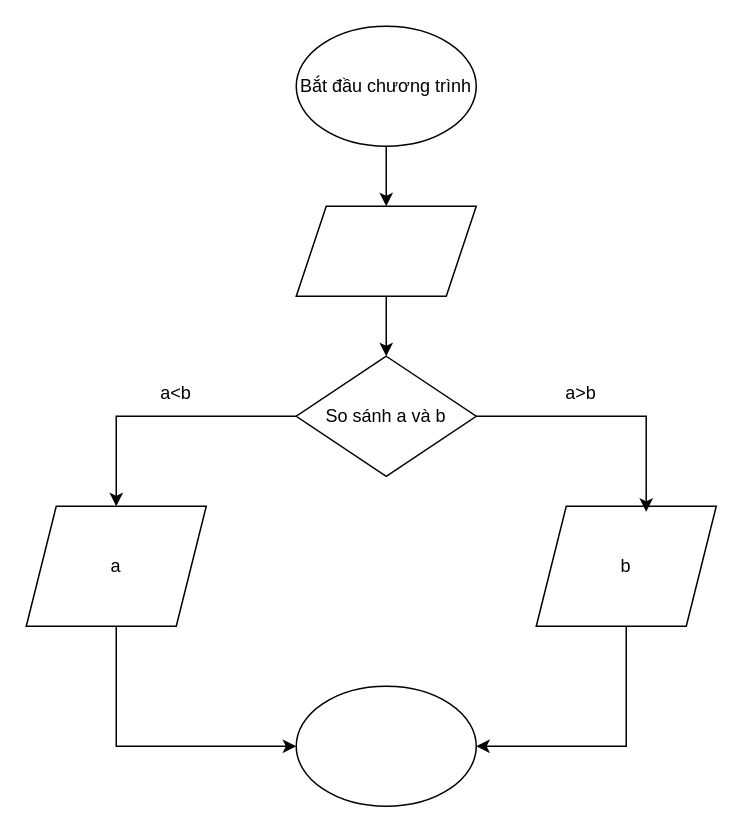
Image size: 743x833. Some labels were removed from this diagram. The shapes that lost their labels are listed below. From the top down, each one's centre as x and y in pixels, then its label:
At [385,250]: "Nhập vào 2 số nguyên a, b".
At [385,745]: "Kết thúc chương trình".
